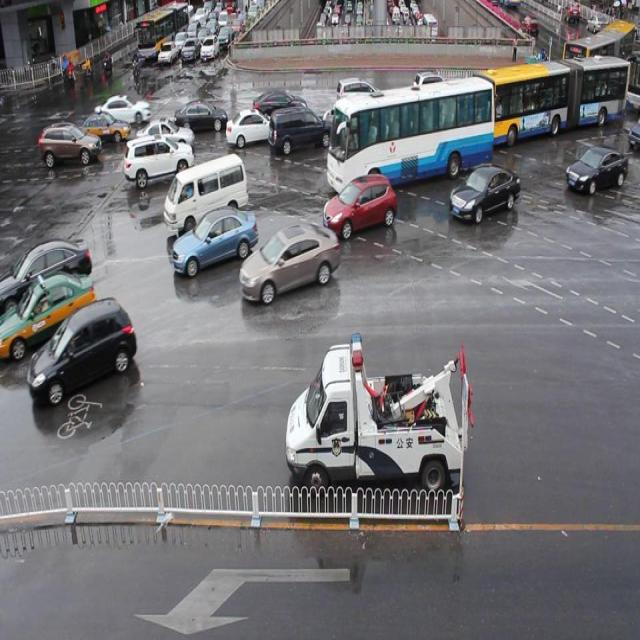bus: (286, 333, 474, 494)
car: (30, 300, 136, 403), (0, 273, 94, 359), (240, 227, 338, 300), (1, 240, 91, 318), (172, 208, 256, 272), (322, 176, 395, 234), (448, 163, 520, 220), (125, 134, 194, 184), (40, 121, 101, 168), (268, 107, 331, 151), (565, 147, 626, 190), (137, 115, 195, 154), (226, 110, 278, 144), (328, 98, 374, 135), (174, 100, 227, 132), (252, 88, 307, 118), (79, 112, 130, 144), (94, 96, 150, 124), (338, 78, 382, 113), (413, 73, 452, 106), (477, 70, 510, 104), (415, 89, 447, 124), (445, 82, 478, 115)
truck: (166, 158, 248, 232)
van: (326, 84, 494, 183), (474, 62, 626, 140)
